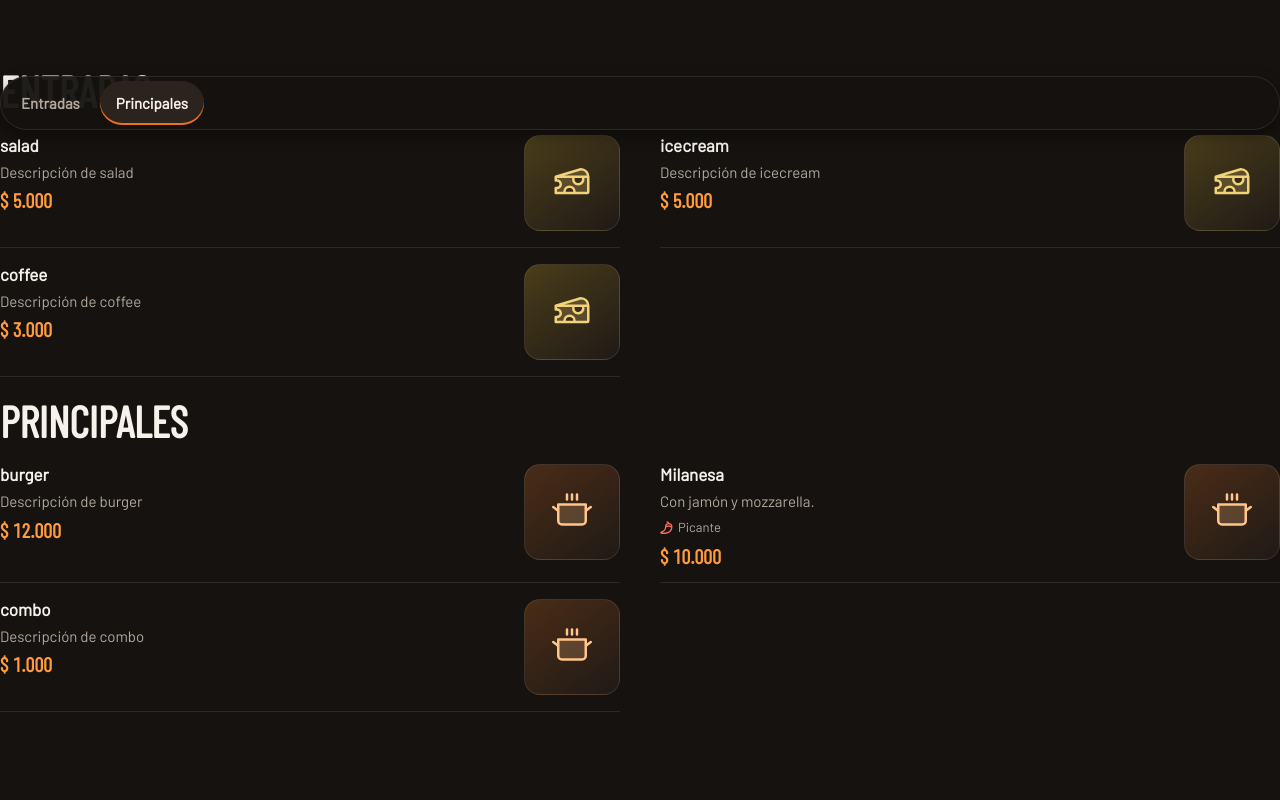
Scenario: DishSheet: ficha del plato (RF2, RF6, RF14-RF20, RF34, RF43) › grupo obligatorio y "Agregar" (RF16, CL7) › con mínimo 2 pide "Elegí 2 opciones", luego "Elegí 1 opción" y al llegar se habilita
(page scrolled)
Expected: the navigation bar is shown, [0,76,1279,130]
Click the button "icecream Descripción de icecream $ 5.000".
click(694, 145)  # box [660,119,1279,247]
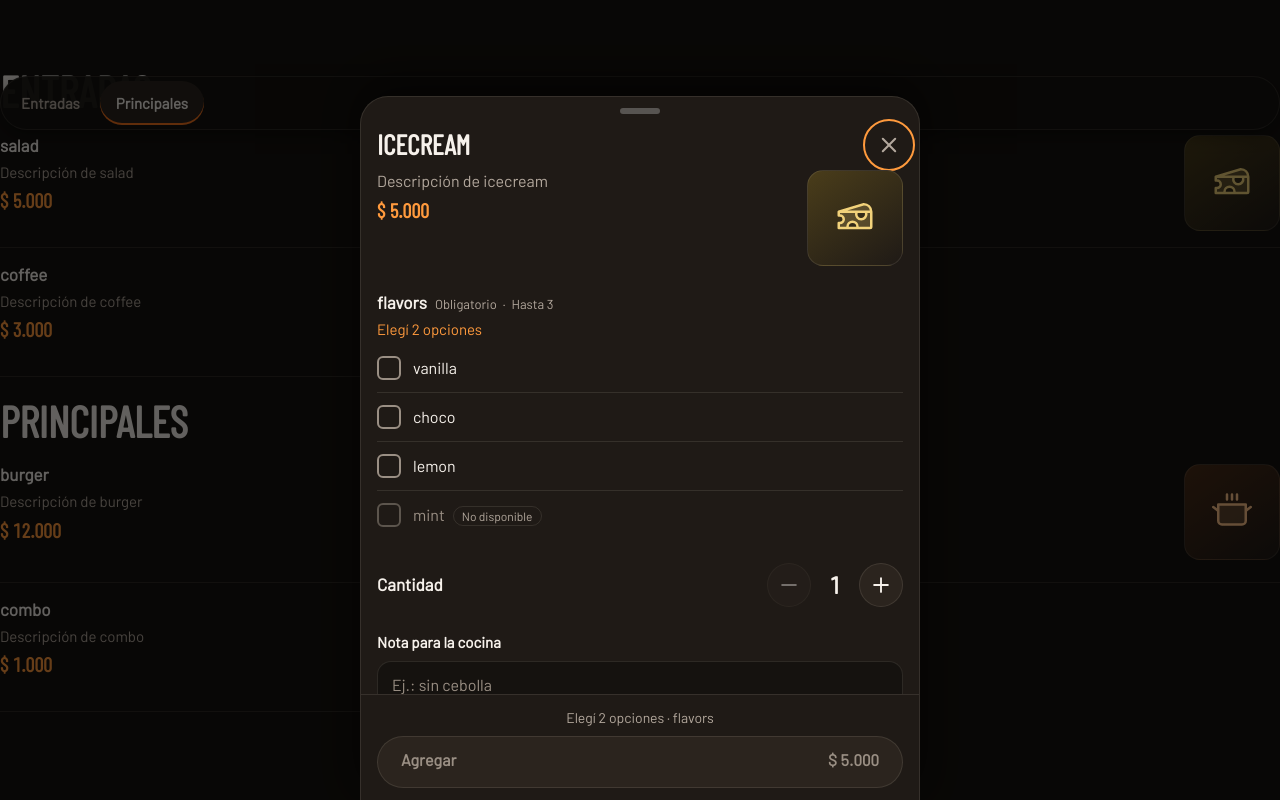
Click the checkbox labelled "vanilla".
click(417, 368)  # box [377,356,457,380]
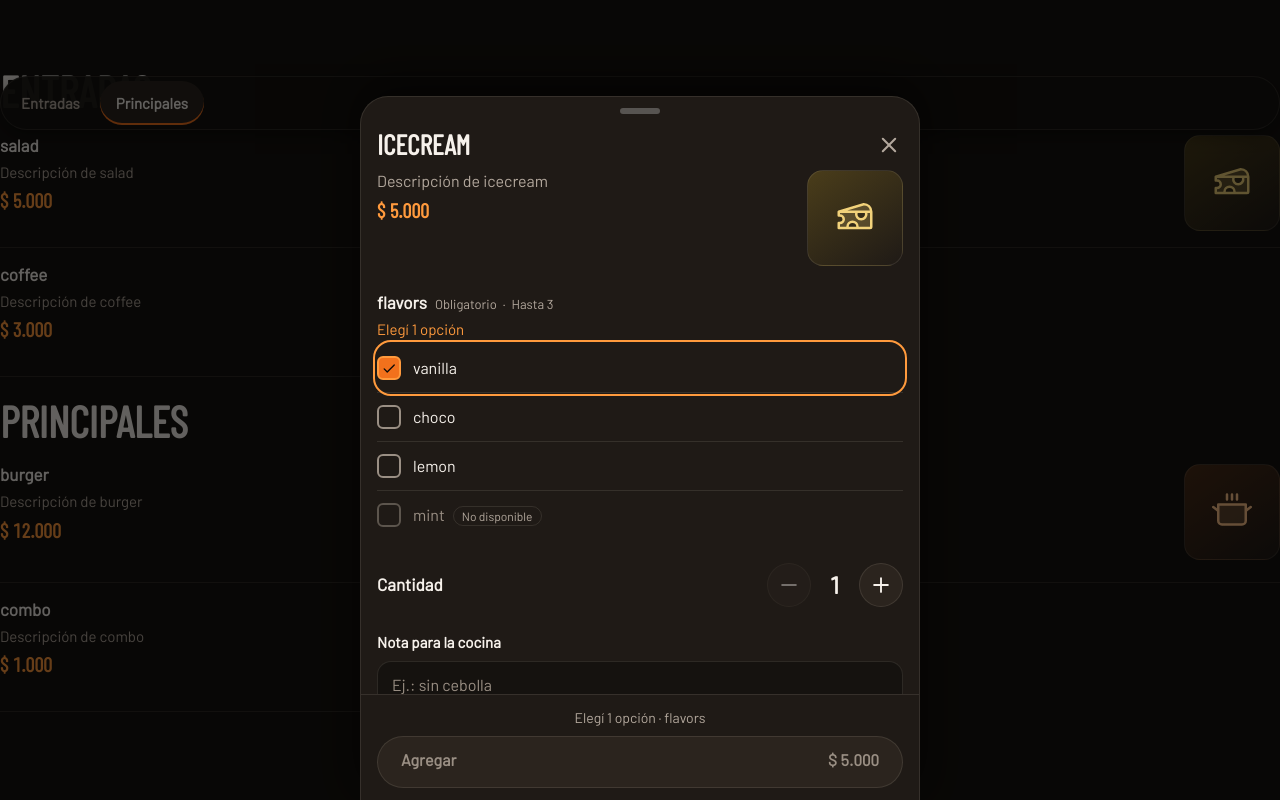
Expected: the button "Agregar $ 5.000" is disabled, [377,736,903,788]
Click the checkbox labelled "choco".
click(416, 417)  # box [377,405,456,429]
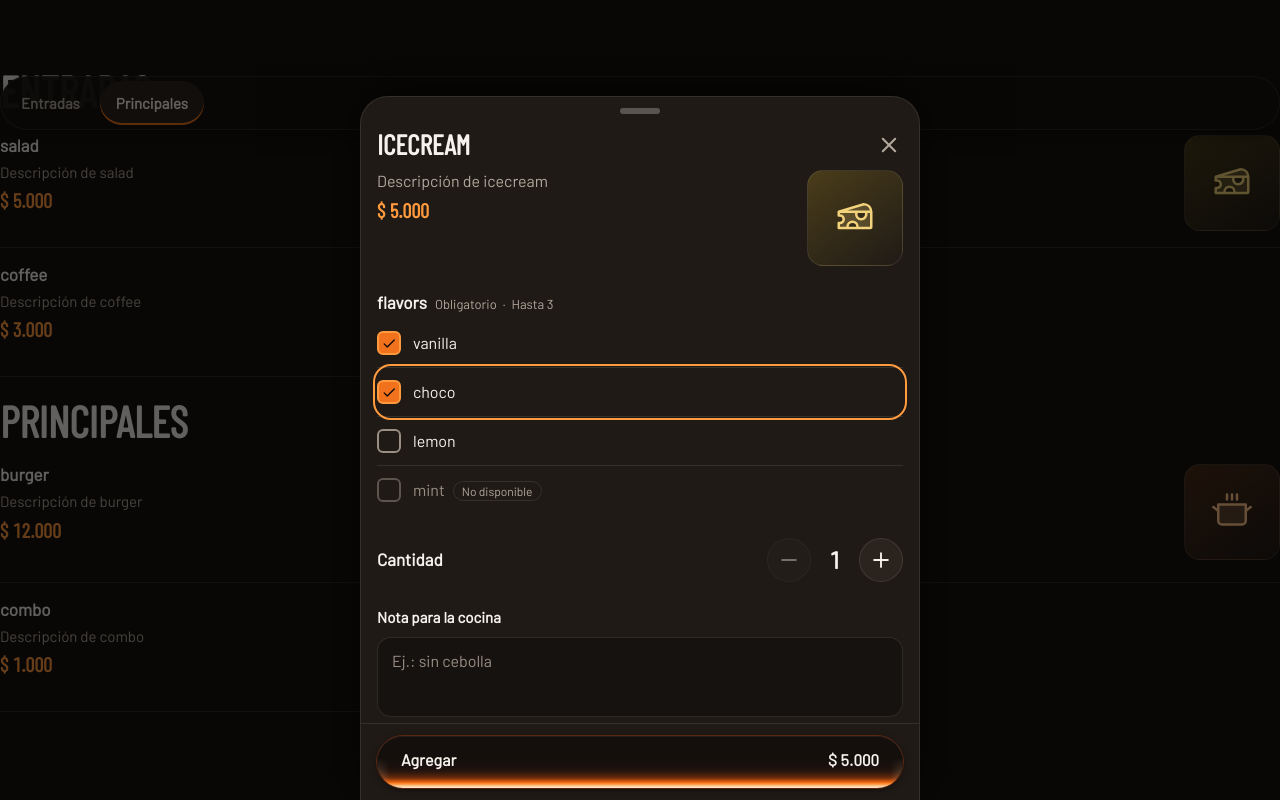
Expected: the button "Agregar $ 5.000" is enabled, [377,736,903,788]
